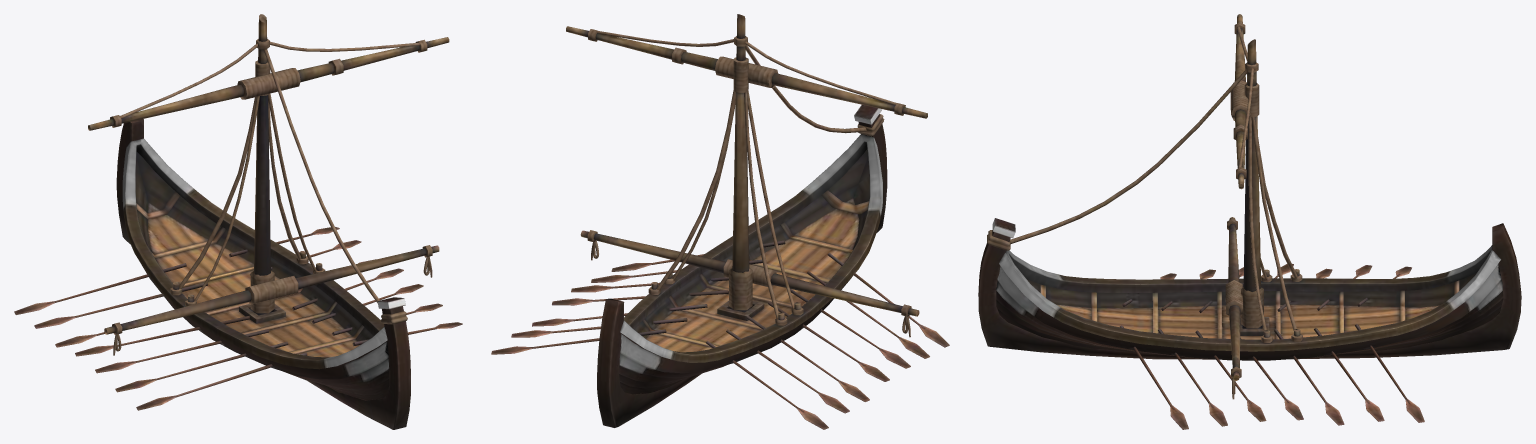
The model's file is body-base.glb.
3 views of the same model, side by side, from view 1: azimuth 30°, elevation 25°; view 2: azimuth 150°, elevation 25°; view 3: azimuth 270°, elevation 25° (orthographic). The views are drawn at different scales.
Size of the model in its own units: 5.28 by 4.59 by 7.13.
Materials: 1 (1 with a texture image).
